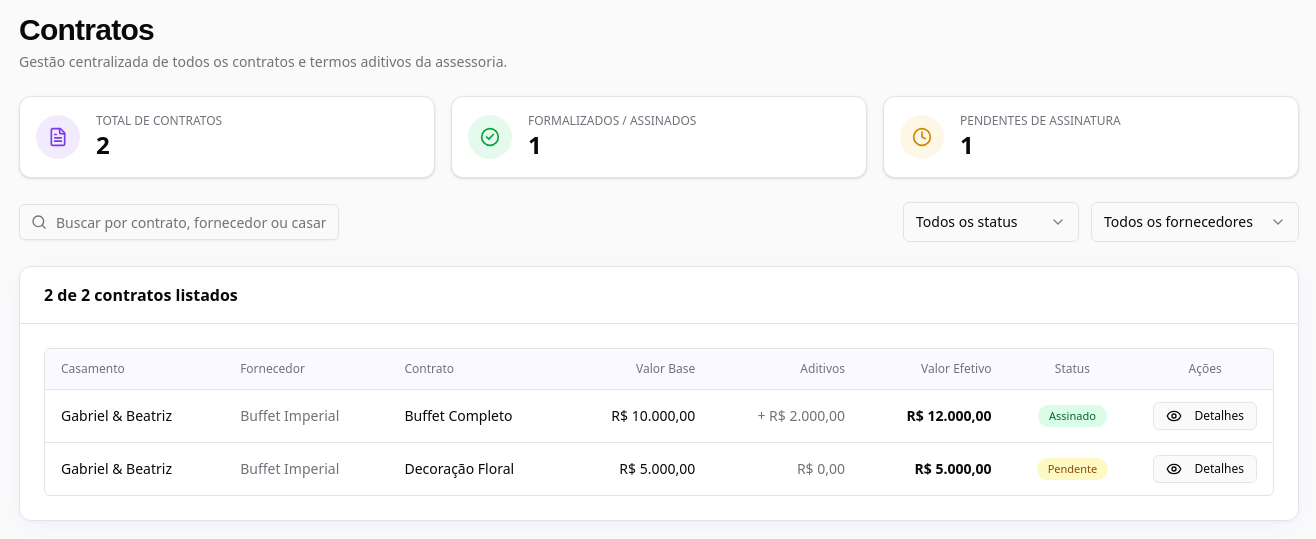
Test: ContractsGlobalPage › filtra contratos via busca textual
Check: the text "Buffet Completo" is shown, box [388,390,566,442]
Check: the text "Decoração Floral" is shown, box [388,442,566,495]
Type "Floral" into the field with placeholder "Buscar por contrato, fornecedor ou casamento..." at (179, 222), box [19,204,339,240]
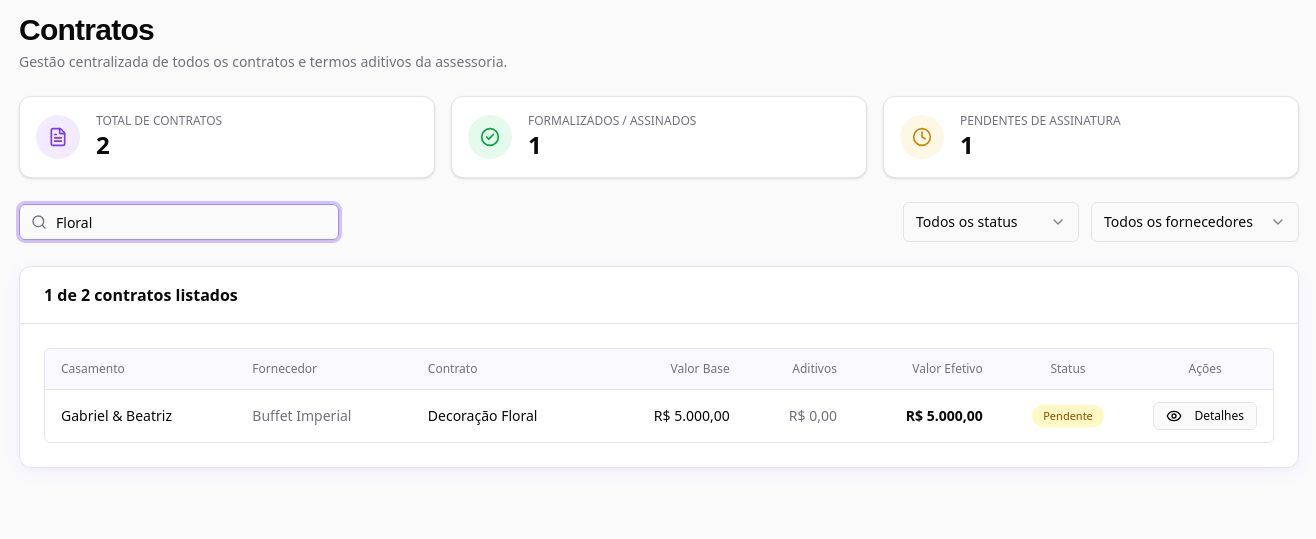
Check: the text "Decoração Floral" is shown, box [412,390,601,442]
Check: the text "Buffet Completo" is gone
